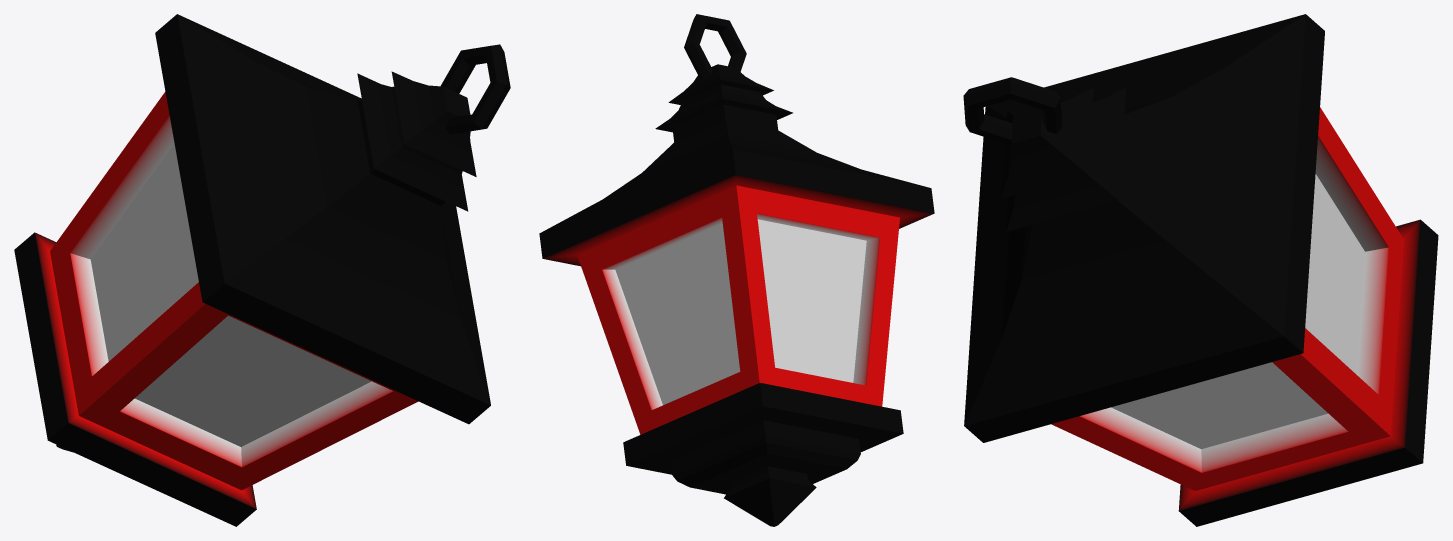
Rendered from lantern.glb.
3 renders of one model, left to right at view 1: azimuth 30°, elevation 25°; view 2: azimuth 150°, elevation 25°; view 3: azimuth 270°, elevation 25°, orthographic. The views are drawn at different scales.
Visible parts, largest first — view 1: Cube; view 2: Cube; view 3: Cube.
Boxes of the visible parts, x1,y1,x2,y2 form: Cube: (14, 14, 510, 526); Cube: (539, 14, 934, 526); Cube: (963, 14, 1438, 526).
Size of the model in its own units: 0.8214 by 0.92 by 0.7377.
